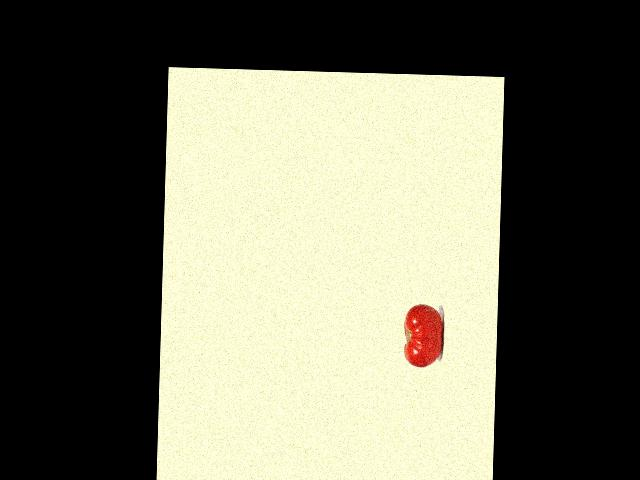tomato: (402, 304, 443, 368)
